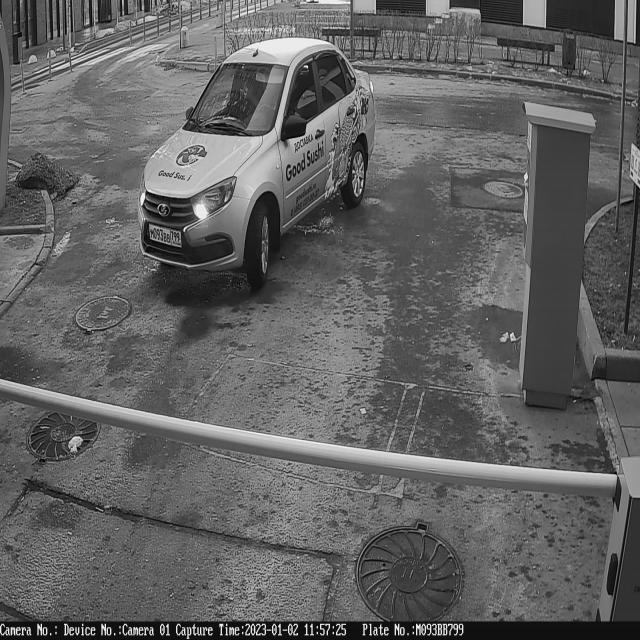car-plate-numbers: (147, 220, 184, 252)
